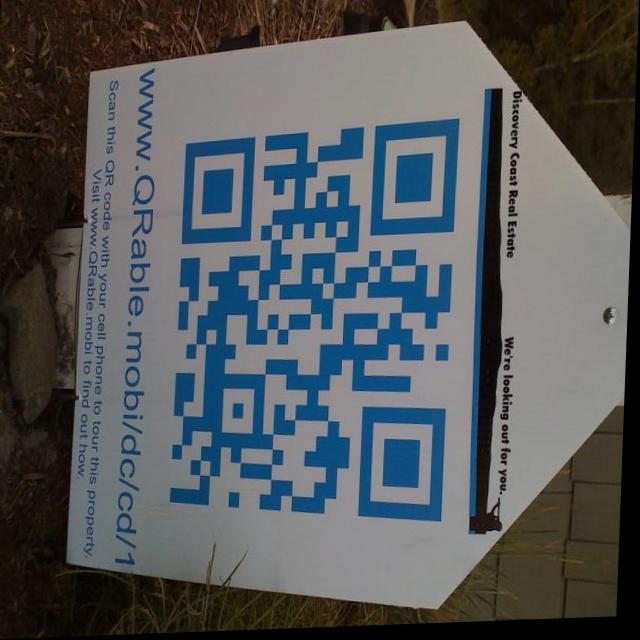qrcode: (173, 124, 460, 533)
